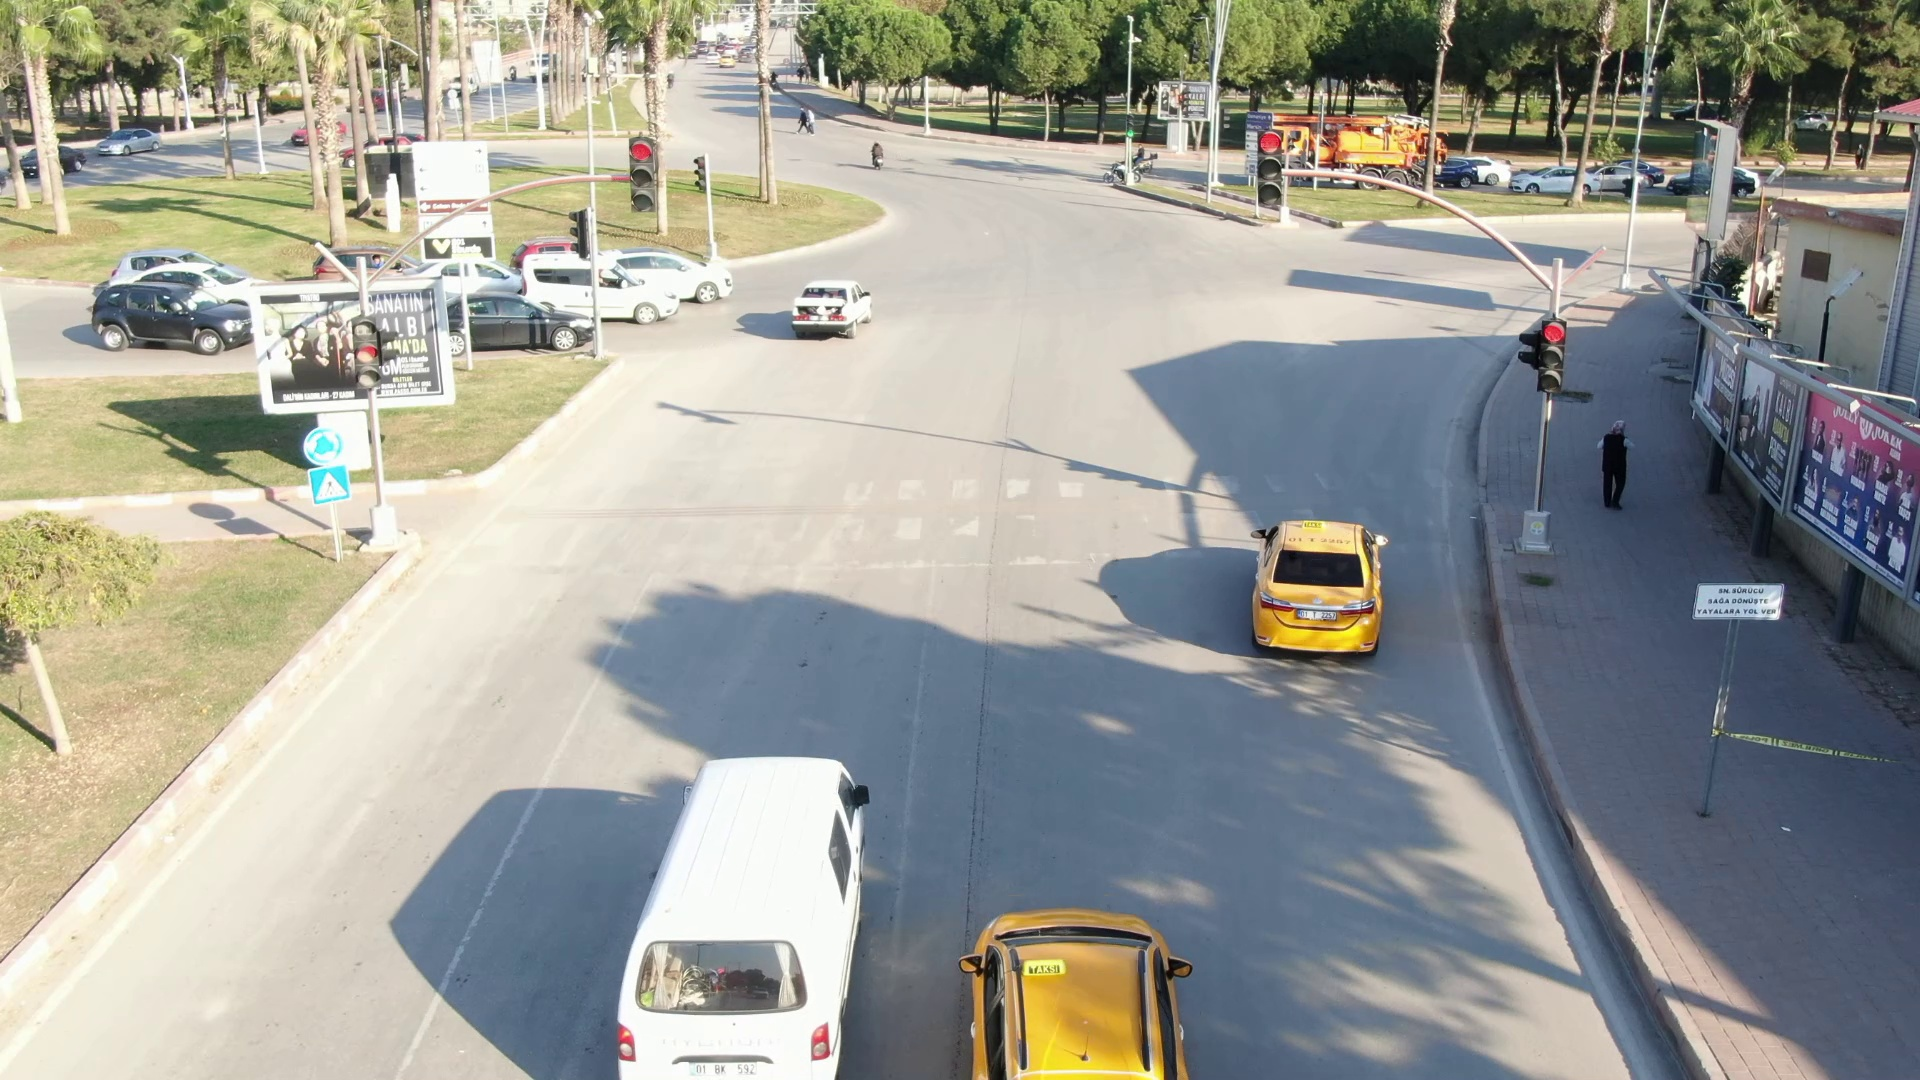car: (604, 739, 886, 1080), (941, 902, 1197, 1080), (1235, 500, 1394, 666), (78, 276, 255, 355), (519, 241, 676, 323), (445, 290, 598, 349), (610, 243, 737, 302), (786, 278, 878, 341)
person: (1590, 417, 1641, 514), (859, 141, 890, 170), (792, 110, 819, 137)
